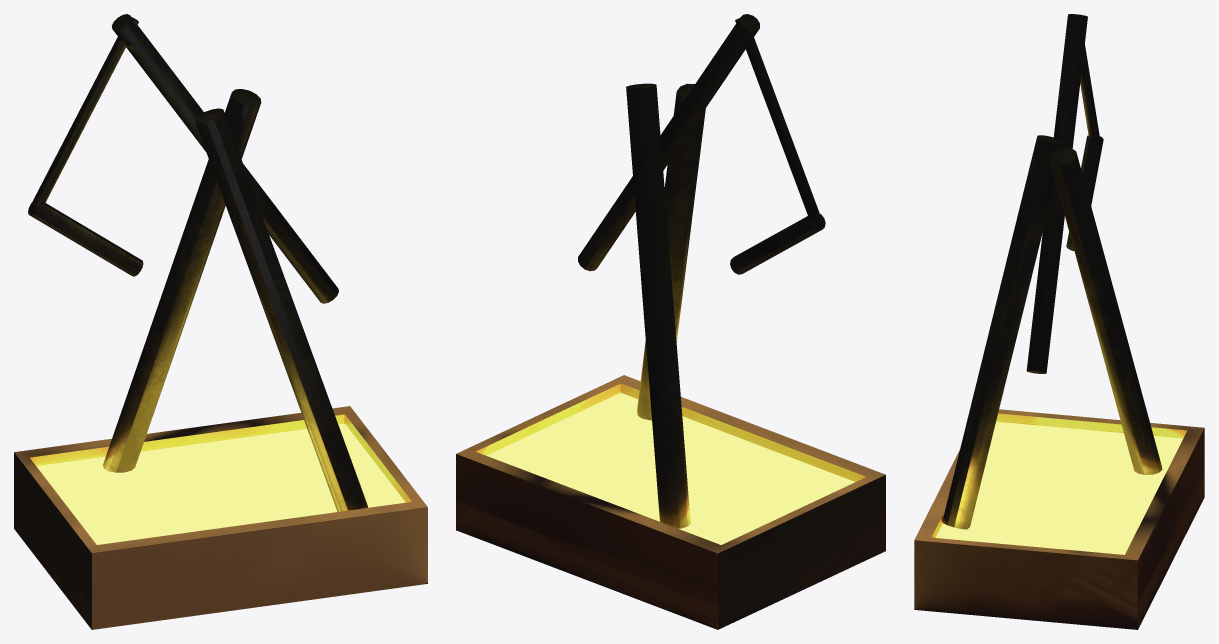
Rendered from pendulum.glb.
The picture shows the model from 3 angles, left to right: view 1: azimuth 30°, elevation 25°; view 2: azimuth 150°, elevation 25°; view 3: azimuth 270°, elevation 25°; orthographic projection. The views are drawn at different scales.
Parts seen in each view (by area): view 1: Triple_Pendulum; view 2: Triple_Pendulum; view 3: Triple_Pendulum.
Part boxes in pixels (bbox=[...]): Triple_Pendulum: bbox=[14, 14, 427, 629]; Triple_Pendulum: bbox=[456, 14, 885, 629]; Triple_Pendulum: bbox=[914, 14, 1204, 629].
Bounding box in the file's own units: 0.1408 × 0.2163 × 0.1131.
Materials: 3 (3 with a texture image).
